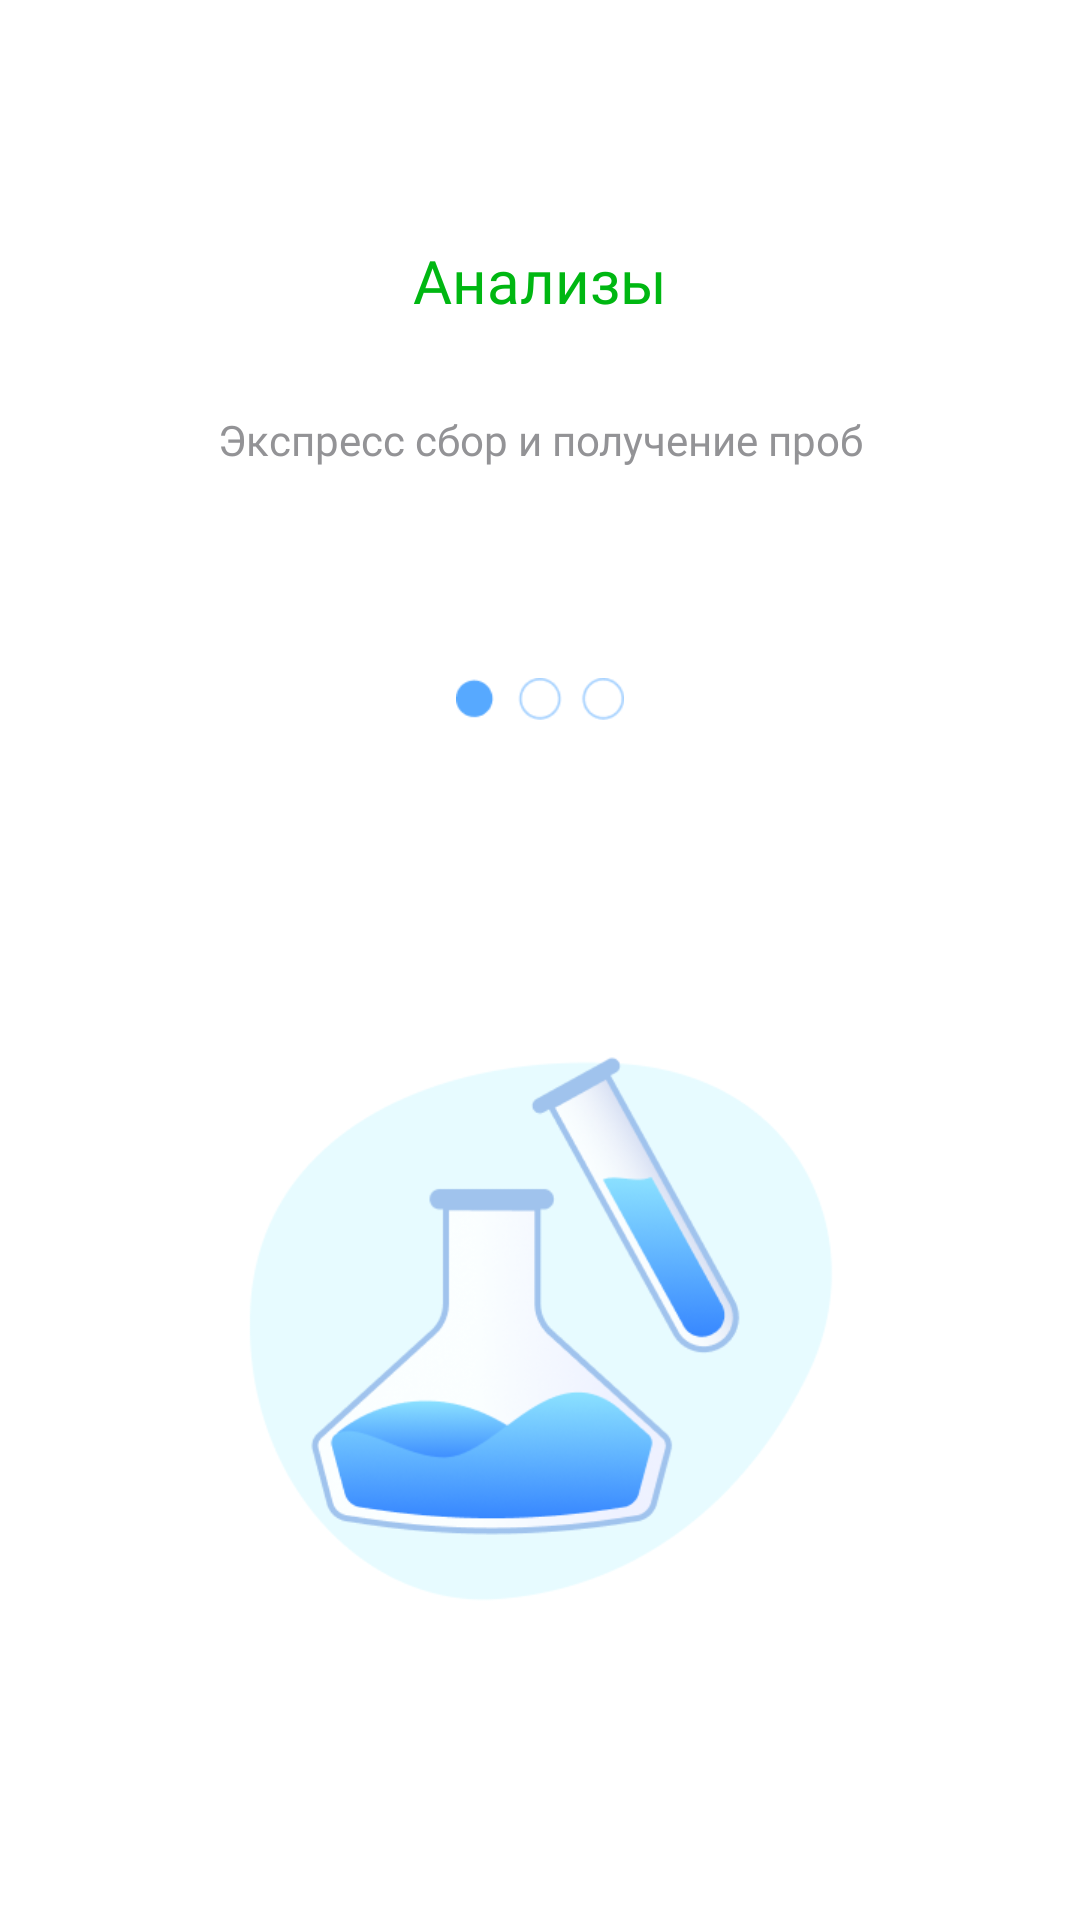

Icons on this 1080 x 1920 Android screen, each with the point to tap as (x,y):
circles: (540,699)
